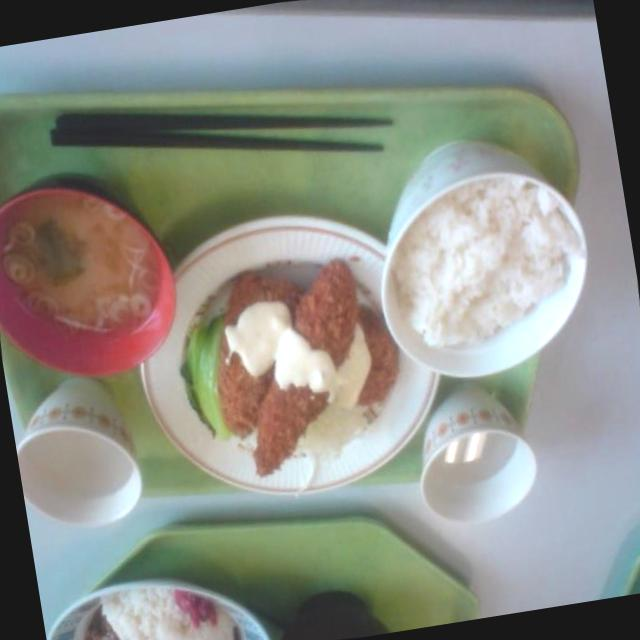Rice: (379, 148, 585, 394)
